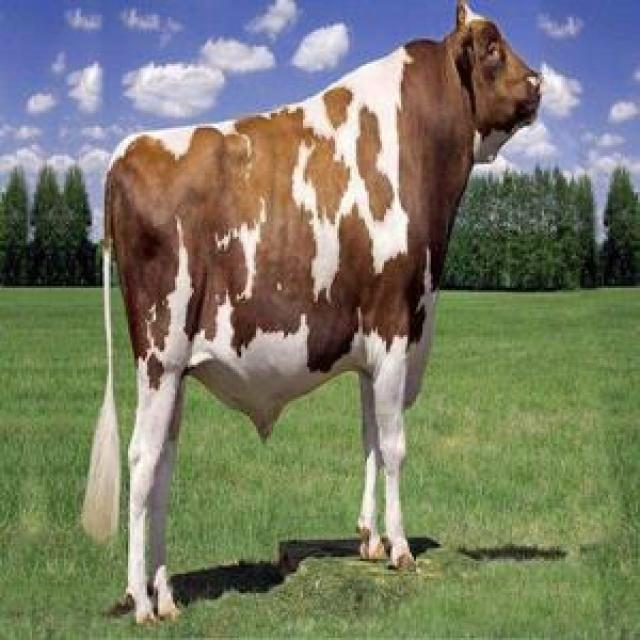cow: (82, 0, 540, 622)
